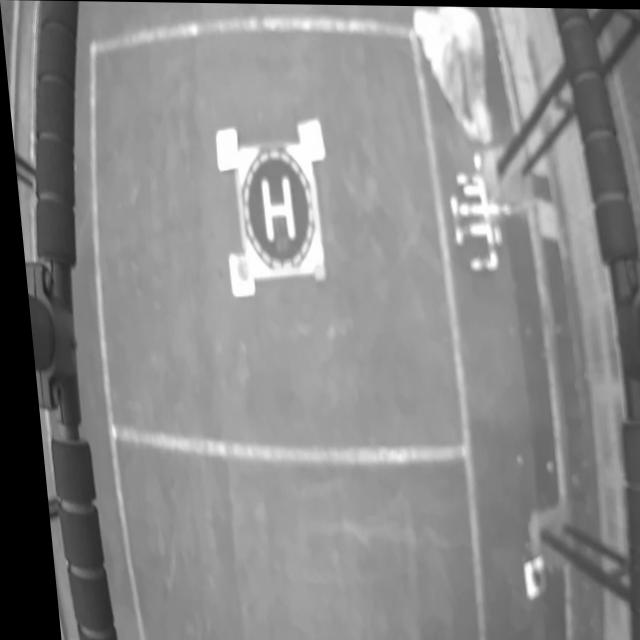Helipad: (257, 176, 291, 240)
